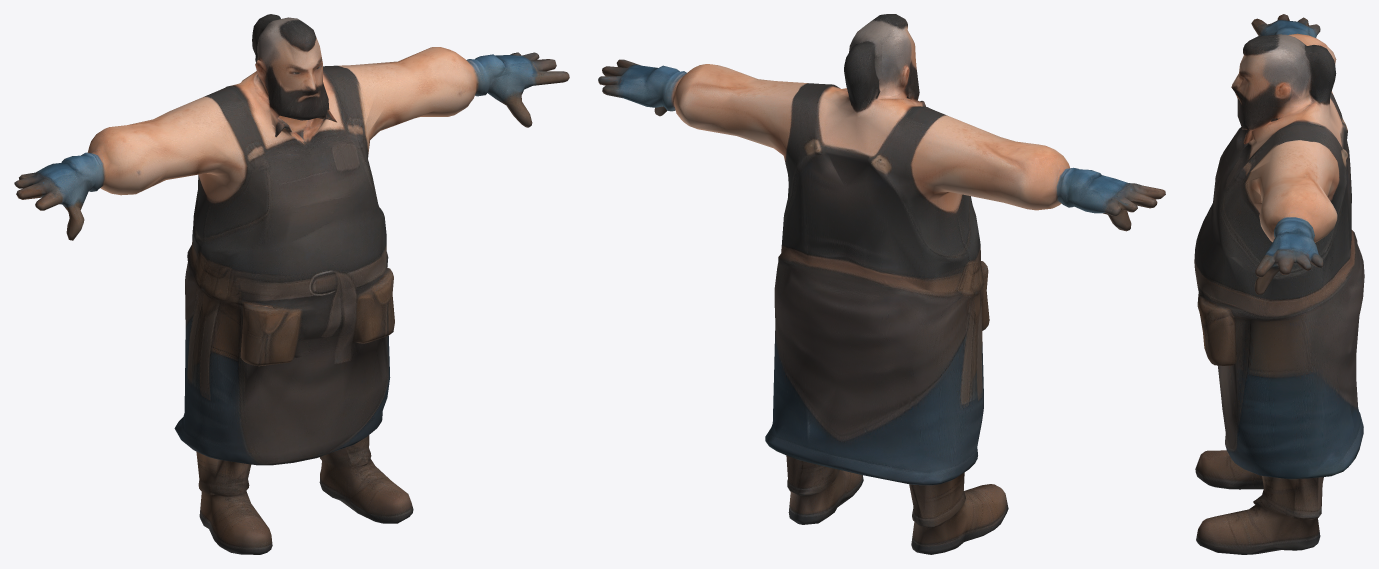
File: npc_smith.glb
3 views of the same model, side by side, from view 1: azimuth 30°, elevation 25°; view 2: azimuth 150°, elevation 25°; view 3: azimuth 270°, elevation 25° (orthographic). The views are drawn at different scales.
Bounding box in the file's own units: 2 × 1.75 × 0.5637.
1 material, 1 textured.
